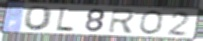2: (166, 11, 192, 37)
8: (84, 8, 107, 33)
L: (55, 6, 76, 34)
O: (22, 6, 55, 32), (139, 10, 165, 36)
R: (107, 8, 138, 34)
